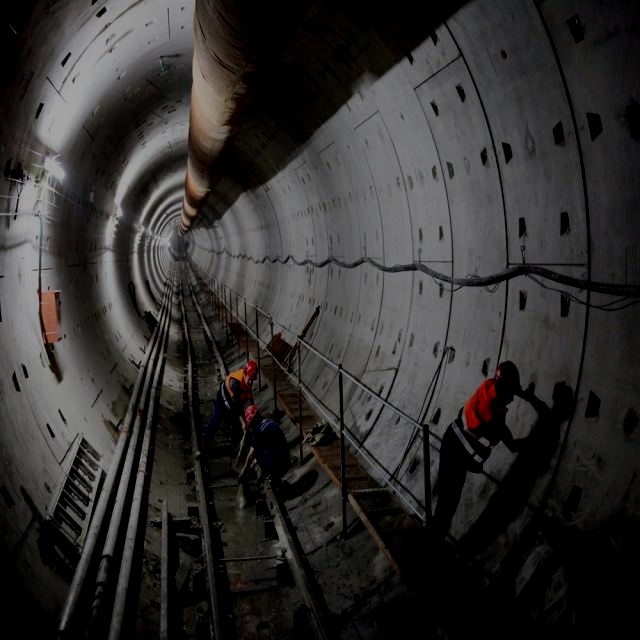Con_Casco: (245, 361, 258, 387)
Con_Chaleco: (452, 381, 507, 460), (218, 369, 244, 408)
